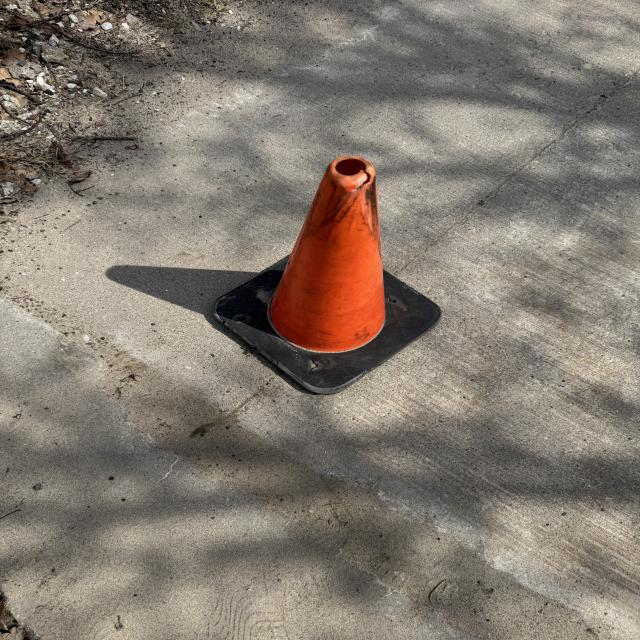Traffic Cone: (208, 157, 442, 395)
